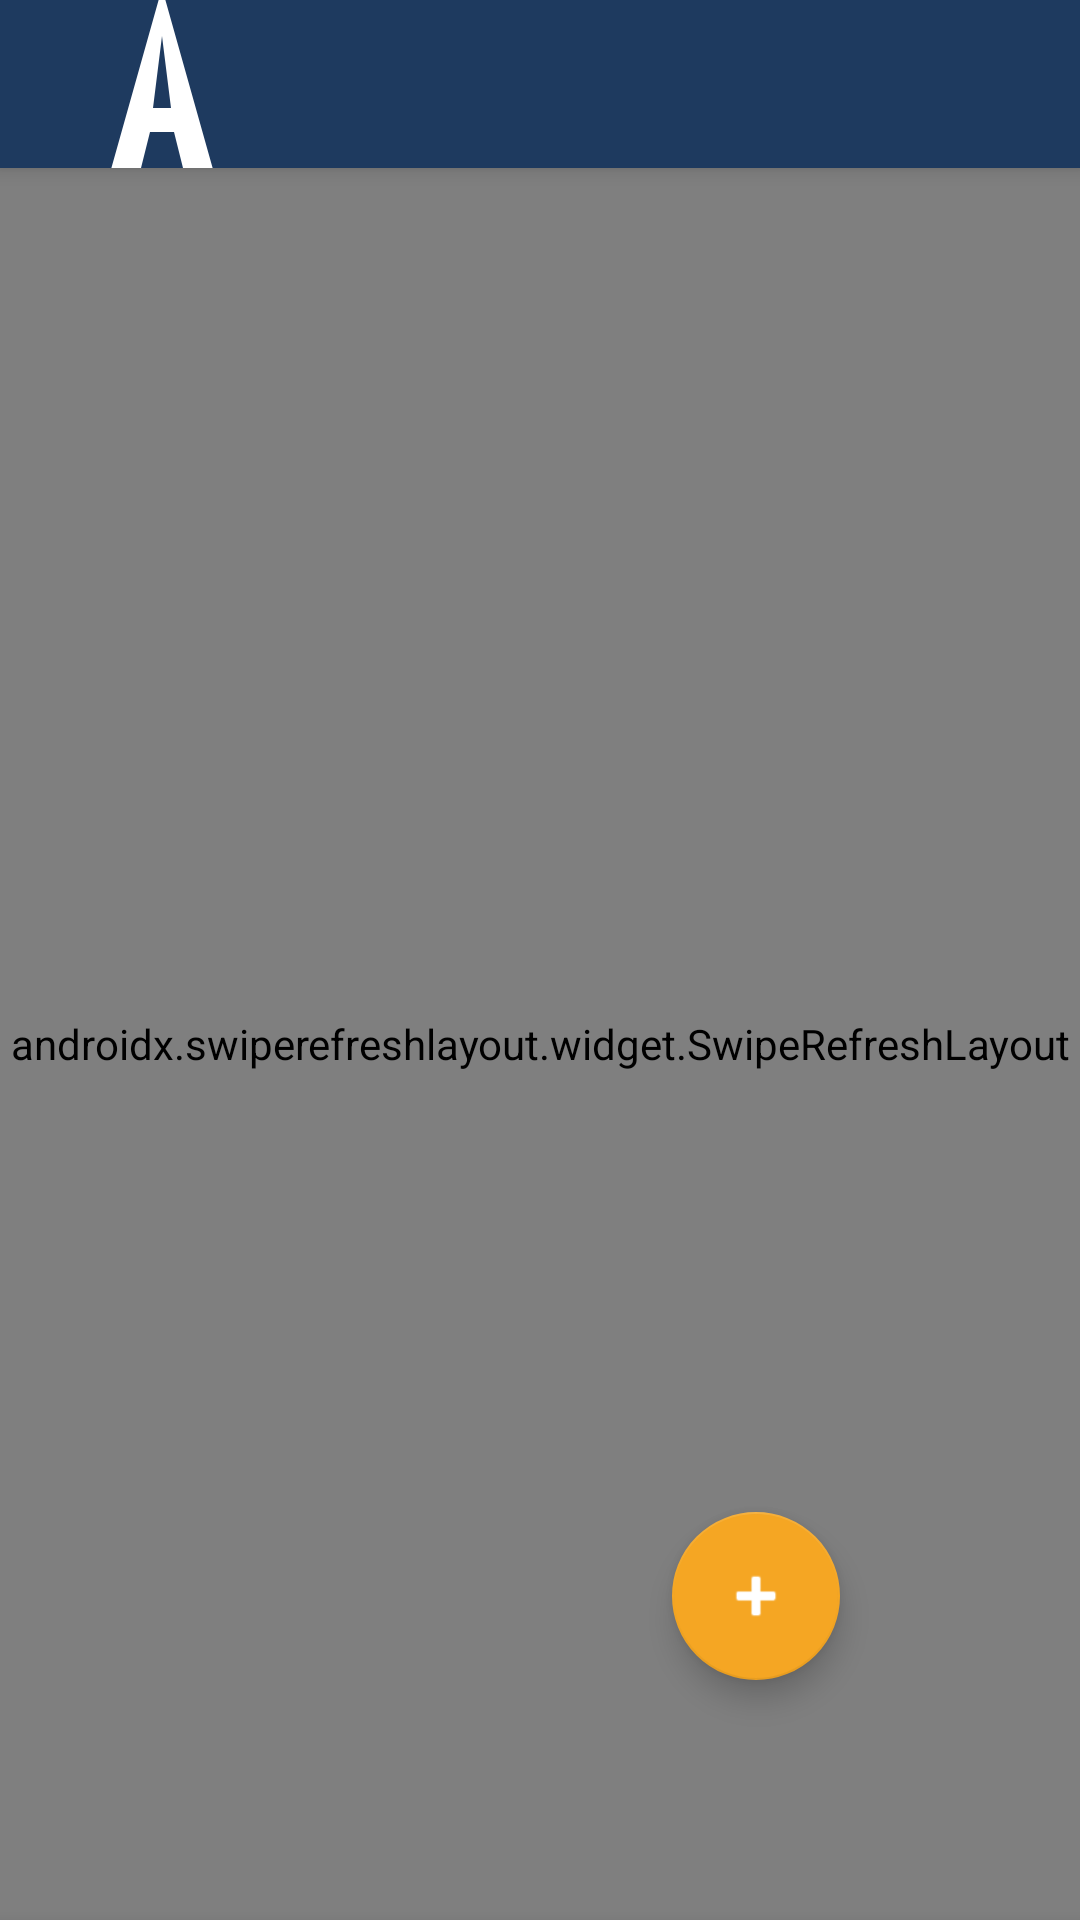

Icon click points for this 1080×1920 phone screenshot, format [x,y]:
بيع جديد: [756,1596]
